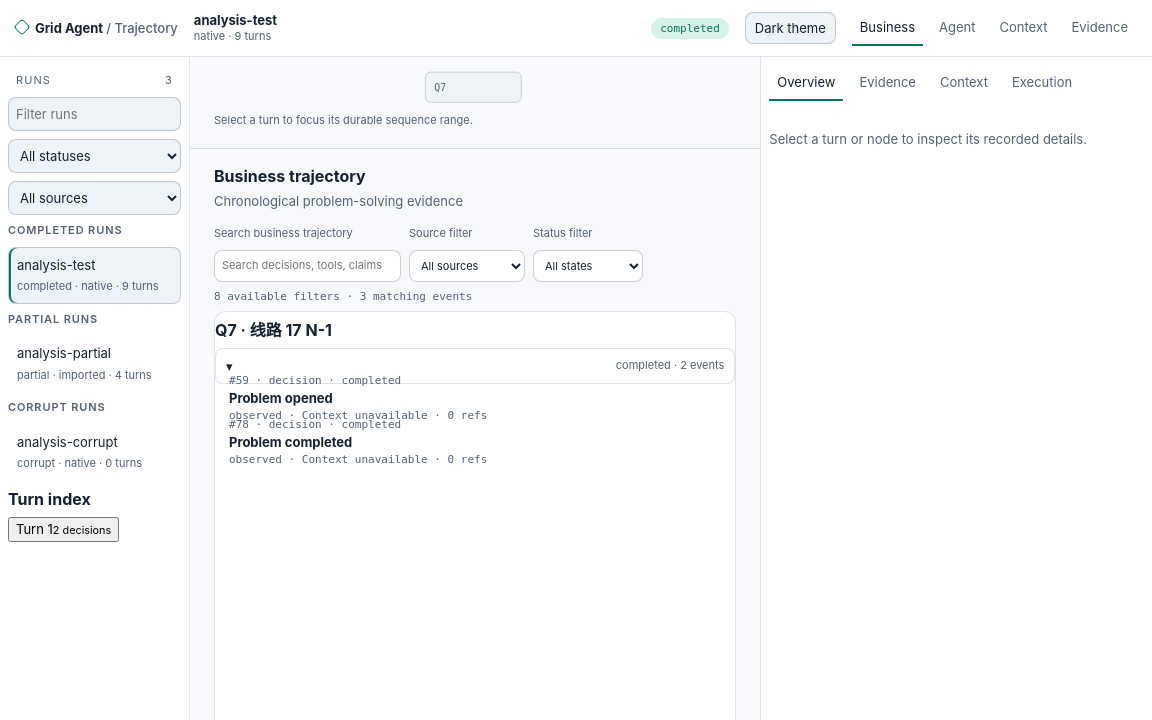
Test: App shell › blocks the projection for a corrupt run
The width and height of the screenshot is (1152, 720).
Click the button "analysis-corrupt corrupt · native · 0 turns". click: (94, 453)
box: [8,424,181,481]
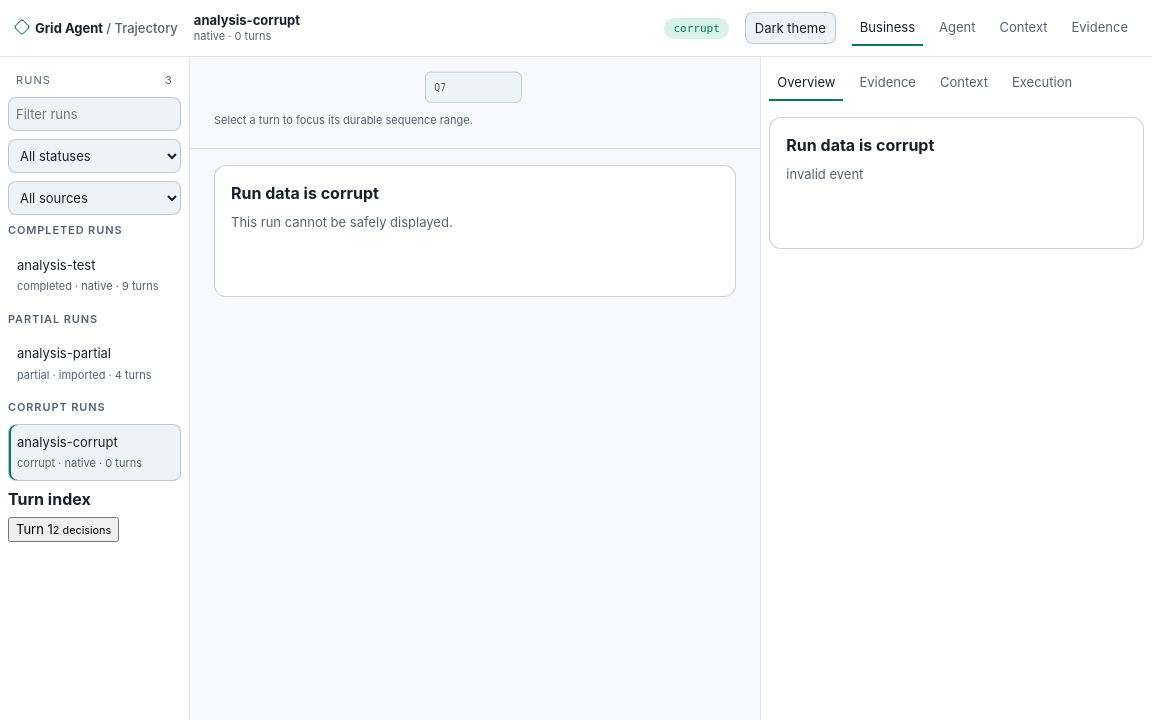
Expected: the message "Run data is corrupt This run cannot be safely displayed." is shown, [214,165,736,297]
Expected: the heading "Q7 · 线路 17 N-1" is gone
